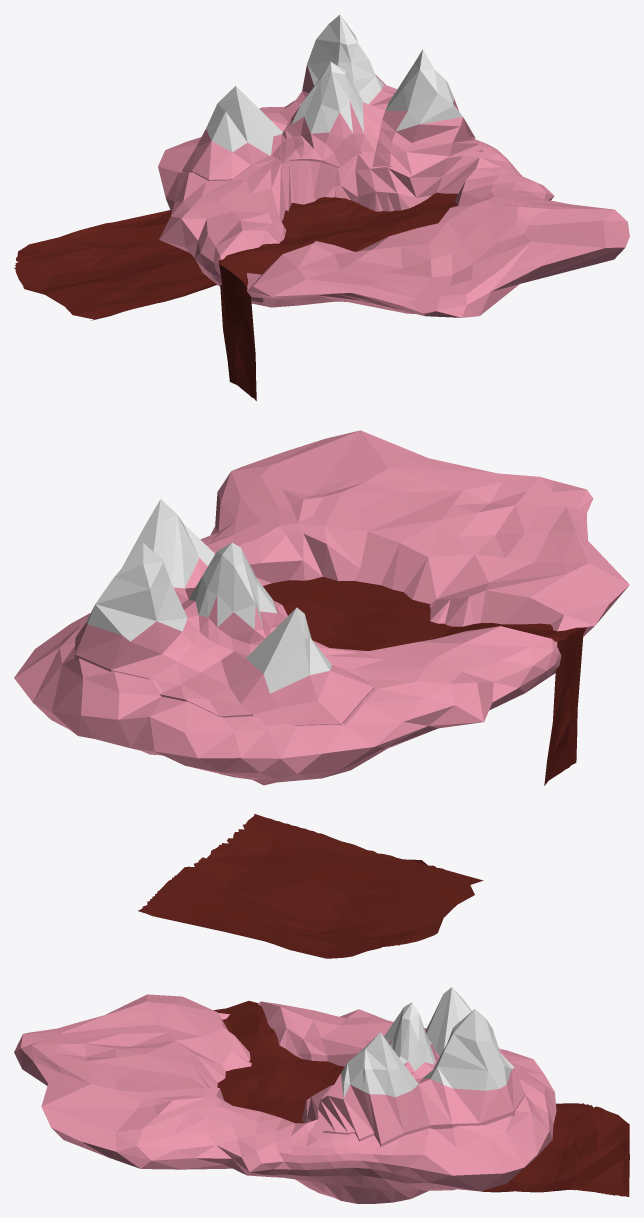
Rendered from hui.fbx.
The picture shows the model from 3 angles, top to bottom: view 1: azimuth 30°, elevation 25°; view 2: azimuth 150°, elevation 25°; view 3: azimuth 270°, elevation 25°; orthographic projection. The views are drawn at different scales.
Visible parts, largest first — view 1: land, land.001, Plane.002, Plane.001; view 2: land, land.001, Plane.002, Plane.001; view 3: land, land.001, Plane.002, Plane.001.
Part boxes in pixels (x1,y1,x2,y2): land: (158, 99, 629, 317); land.001: (181, 15, 483, 180); Plane.002: (14, 210, 216, 320); Plane.001: (218, 192, 457, 400); land: (14, 430, 629, 785); land.001: (74, 499, 374, 725); Plane.002: (138, 814, 483, 958); Plane.001: (263, 576, 586, 785); land: (14, 994, 556, 1203); land.001: (311, 987, 524, 1146); Plane.002: (482, 1103, 629, 1196); Plane.001: (214, 1001, 344, 1123).
Bounding box in the file's own units: 675 × 401 × 959.
